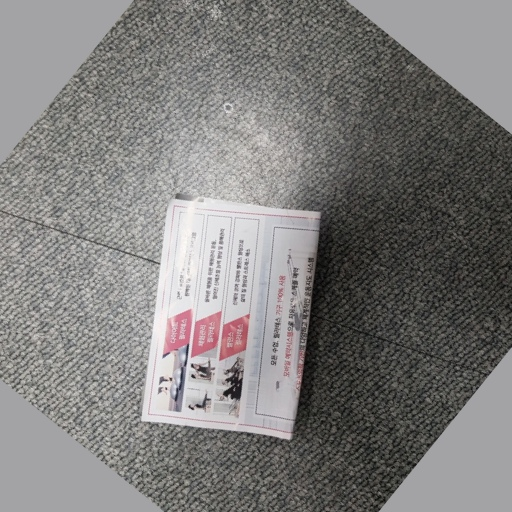Paper_2: (134, 183, 337, 461)
